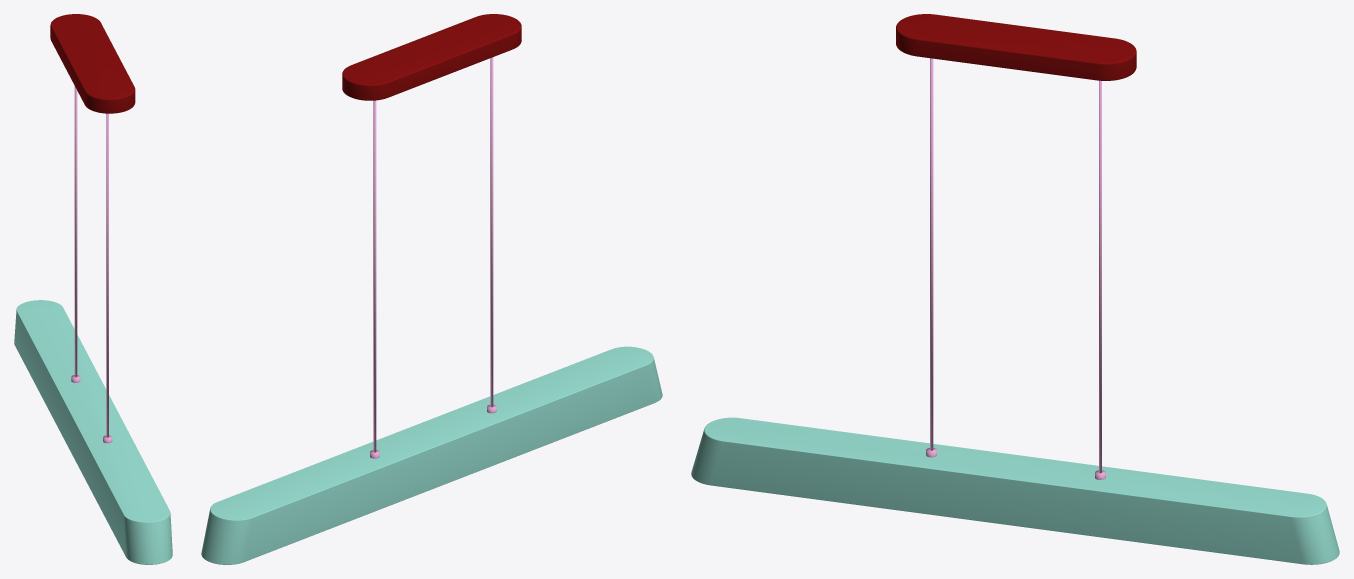
The model's file is wooden_lamp.obj.
3 renders of one model, left to right at view 1: azimuth 30°, elevation 25°; view 2: azimuth 150°, elevation 25°; view 3: azimuth 270°, elevation 25°, orthographic. The views are drawn at different scales.
Parts seen in each view (by area): view 1: Rectangle071, Rectangle068, Cylinder060, Cylinder058; view 2: Rectangle071, Rectangle068, Cylinder060, Cylinder058; view 3: Rectangle071, Rectangle068, Cylinder058, Cylinder060.
Boxes of the visible parts, box(x1,y1,x2,y2) form: Rectangle071: box(14, 300, 172, 564); Rectangle068: box(50, 14, 135, 113); Cylinder060: box(74, 86, 77, 377); Cylinder058: box(106, 113, 108, 437); Rectangle071: box(201, 346, 662, 564); Rectangle068: box(342, 14, 521, 100); Cylinder060: box(373, 100, 376, 452); Cylinder058: box(490, 57, 493, 407); Rectangle071: box(691, 417, 1339, 564); Rectangle068: box(896, 14, 1136, 80); Cylinder058: box(930, 58, 933, 450); Cylinder060: box(1099, 80, 1101, 473).
Size of the model in its own units: 42.93 by 92.31 by 114.
